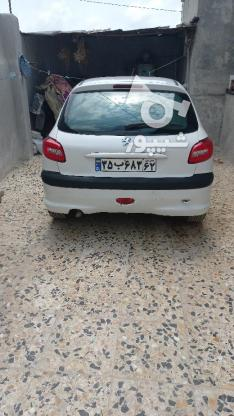car: (94, 158, 160, 173)
